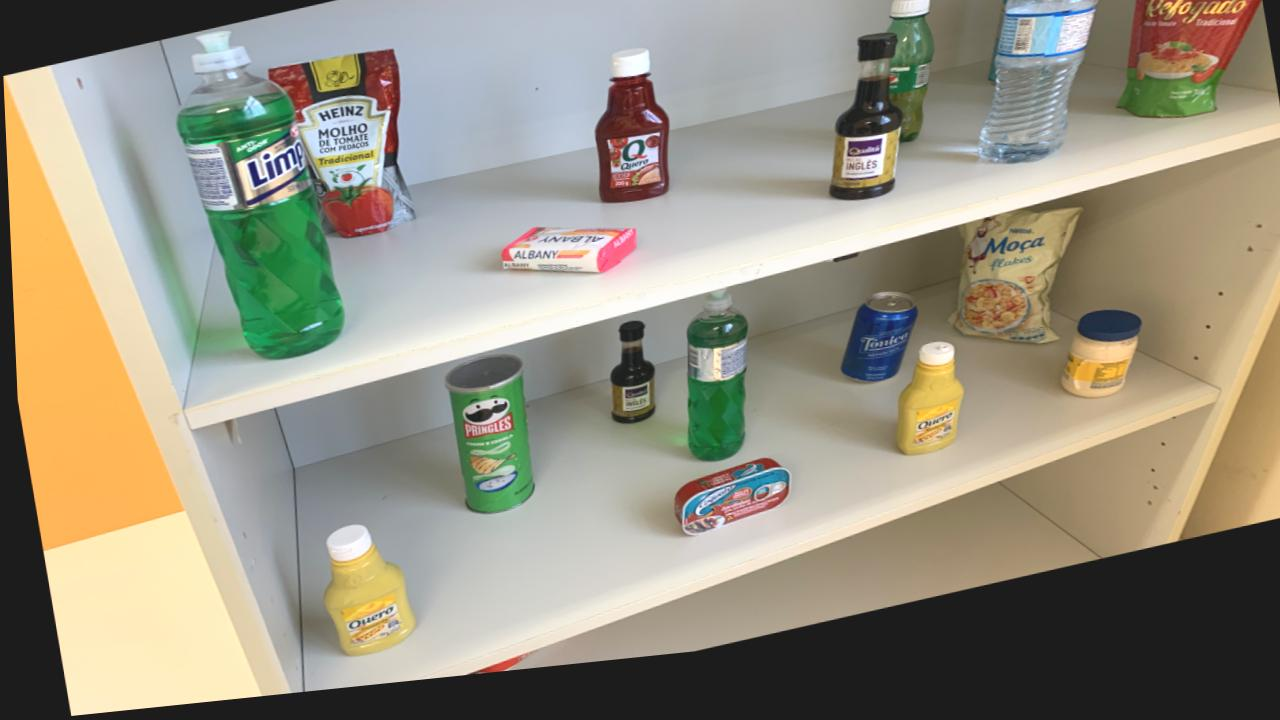Detergent-Cleanup_Items: (175, 36, 341, 365), (682, 305, 745, 476)
English_Sauce-Pantry_Items: (826, 51, 901, 219), (606, 334, 651, 437)
Flakes-Snacks: (946, 230, 1080, 367)
Guarana-Drinks: (887, 14, 934, 162)
Ketchup-Pantry_Items: (593, 61, 668, 216)
Mayonnaise-Pantry_Items: (1056, 333, 1139, 421)
Mustard-Pantry_Items: (317, 531, 411, 663), (890, 361, 960, 475)
Pringles-Snacks: (441, 364, 530, 523)
Soap-Cleanup_Items: (498, 238, 634, 286)
Tea-Drinks: (986, 0, 1027, 105)
Tomato_Sauce-Pantry_Items: (267, 57, 412, 245), (1116, 0, 1261, 143)
Tonic-Drinks: (836, 310, 914, 401)
Tuna_Can-Pantry_Items: (668, 474, 787, 550)
Water_Bottle-Drinks: (975, 0, 1099, 185)
